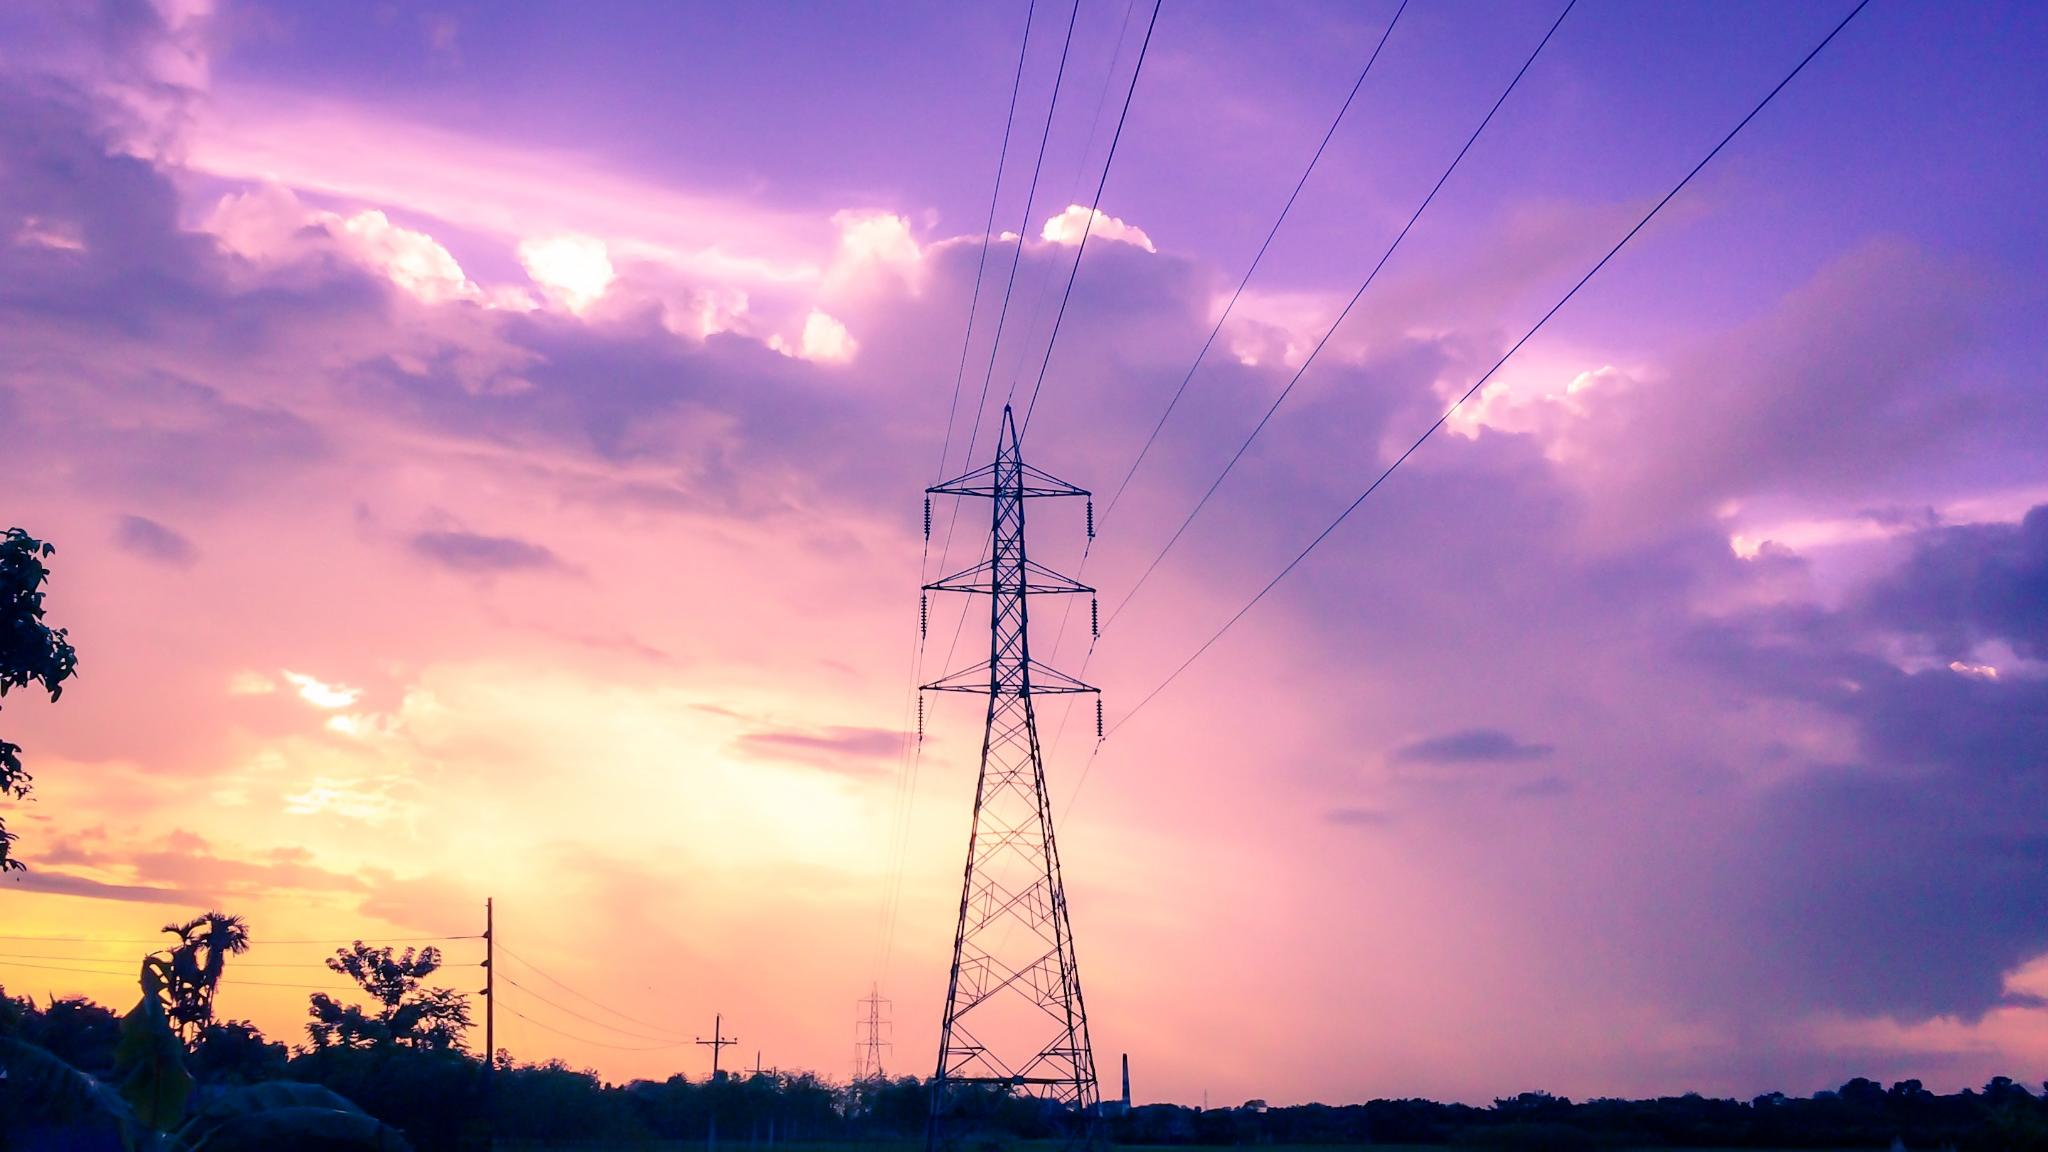cable tower: (848, 369, 1180, 1125), (426, 871, 547, 1113), (813, 975, 934, 1101), (685, 1007, 747, 1125)
